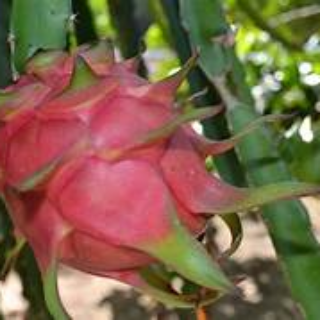thanh_long: (1, 49, 232, 292)
